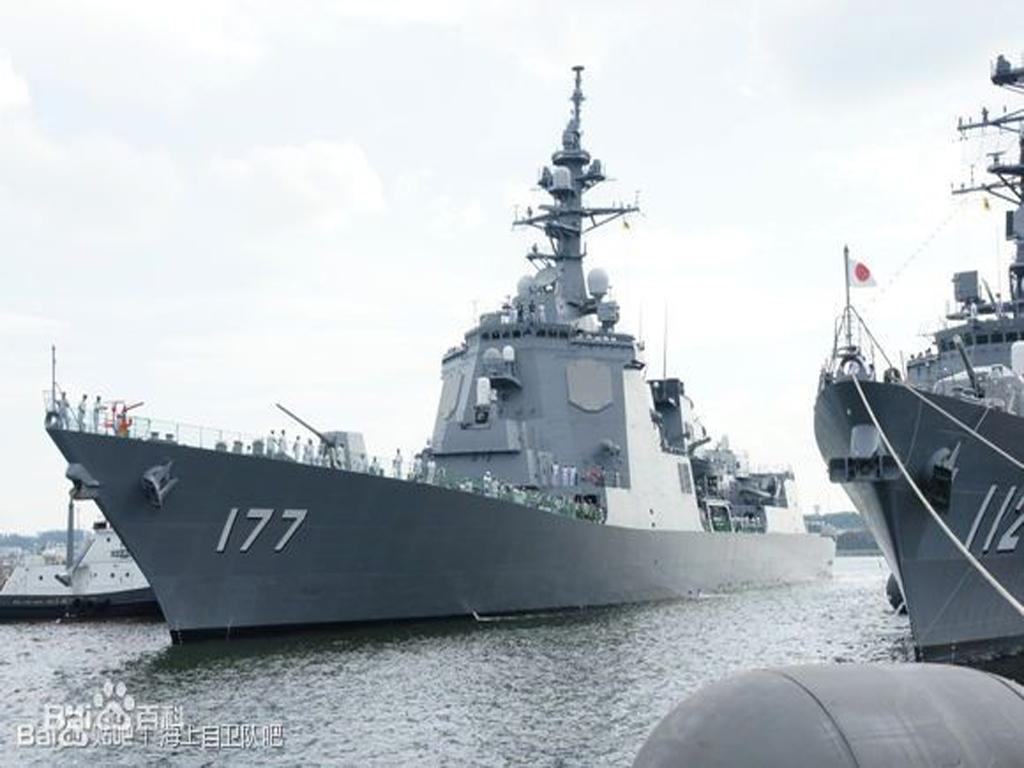Warship: (38, 60, 838, 660), (816, 56, 1024, 670)
